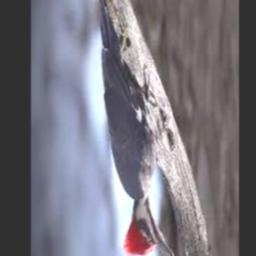Woodpecker: (99, 0, 174, 256)
